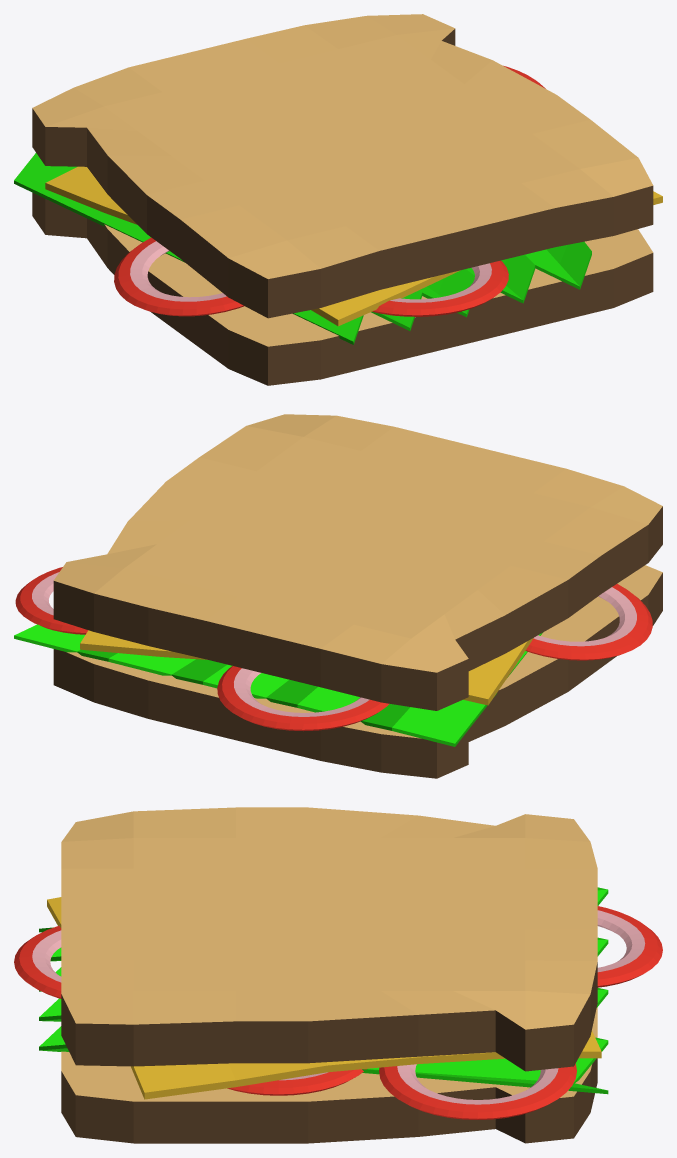
The model's file is SM_Sandwich.fbx.
3 views of the same model, one above another, from view 1: azimuth 30°, elevation 25°; view 2: azimuth 150°, elevation 25°; view 3: azimuth 270°, elevation 25° (orthographic). The views are drawn at different scales.
Parts seen in each view (by area): view 1: Sandwich; view 2: Sandwich; view 3: Sandwich.
Part boxes in pixels (left/top/right/bottom): Sandwich: left=14, top=14, right=662, bottom=385; Sandwich: left=14, top=414, right=662, bottom=778; Sandwich: left=14, top=807, right=662, bottom=1143.
Size of the model in its own units: 41.53 by 8.74 by 42.09.
